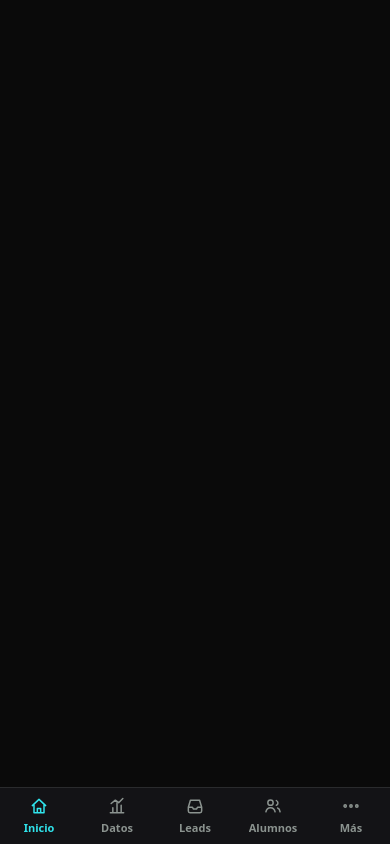
Test: TabBar del panel › Más despliega las secciones restantes y todas son alcanzables
Click the button "Más" at [351, 816], box [312,788,389,843]
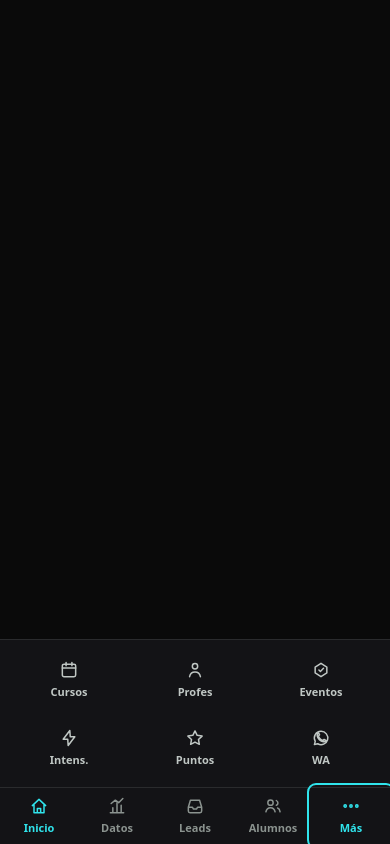
Check: the link "Cursos" is shown, box [50,660,88,699]
Check: the link "Profes" is shown, box [178,660,212,699]
Check: the link "Eventos" is shown, box [299,660,343,699]
